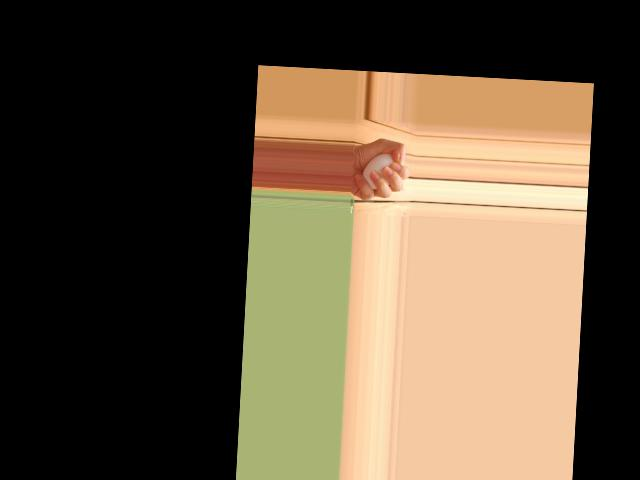egg: (361, 152, 393, 190)
